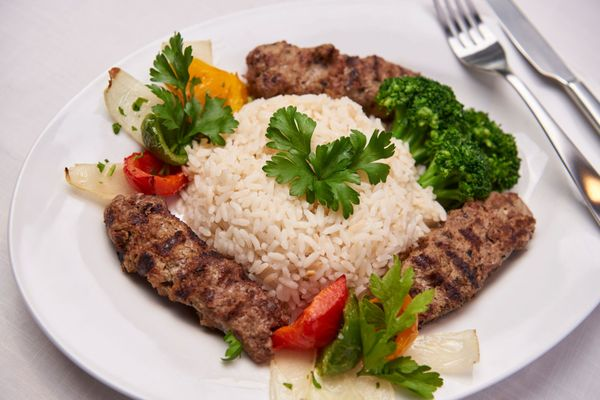burger: (435, 0, 600, 232), (494, 0, 600, 140)
curry: (372, 72, 521, 209)
sandwich: (492, 0, 600, 145)
